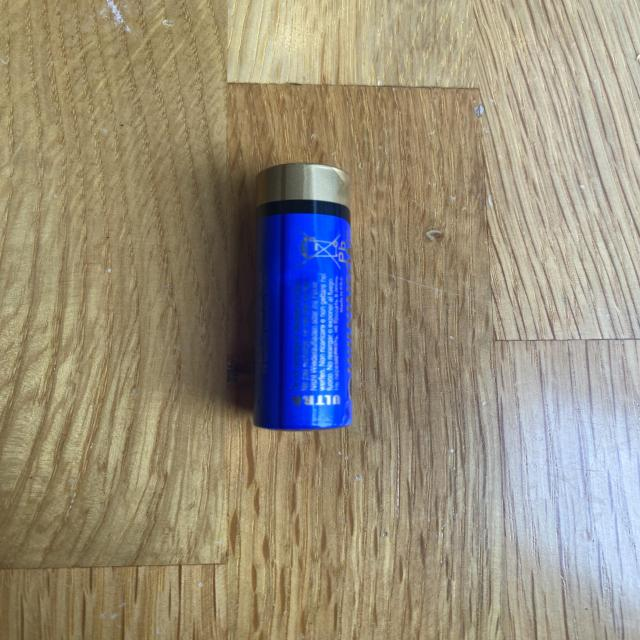AA: (252, 162, 354, 430)
